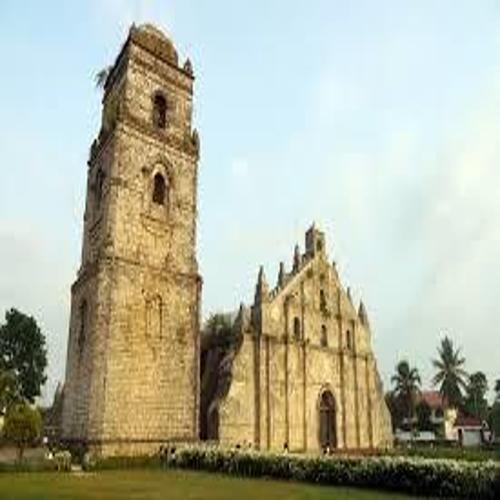Paoay Church: (65, 8, 398, 465)
